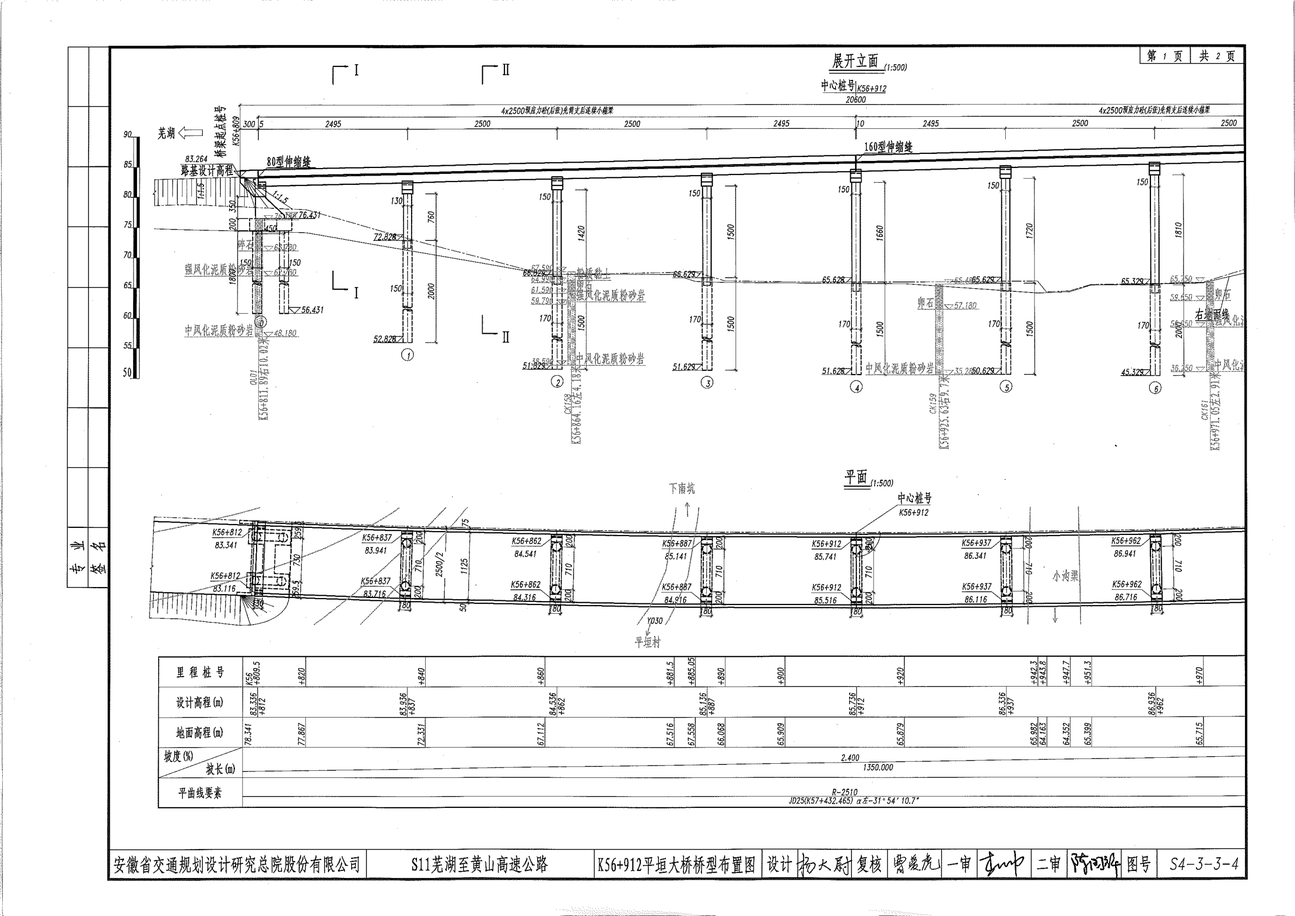A: (122, 46, 1266, 403)
